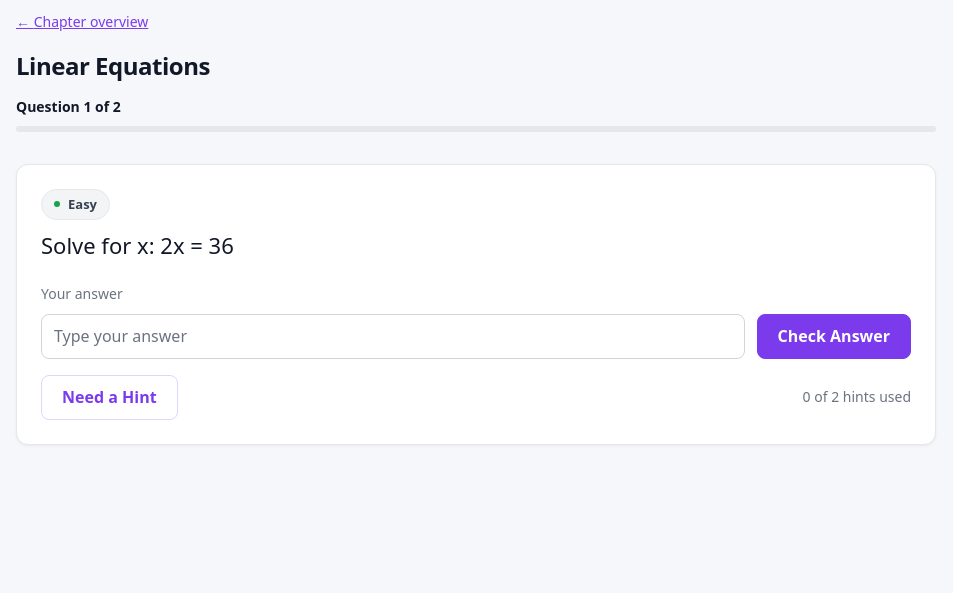
Scenario: QuestionPage - saving note for a newly created identity (S4a) › is cleared on Next Question and never re-armed
This screenshot has width=953, height=593.
expect the text "Solve for x: 2x = 36" is shown: met, box [41, 230, 234, 260]
Type "18" into the field with placeholder "Type your answer" at (393, 336), box [41, 314, 745, 359]
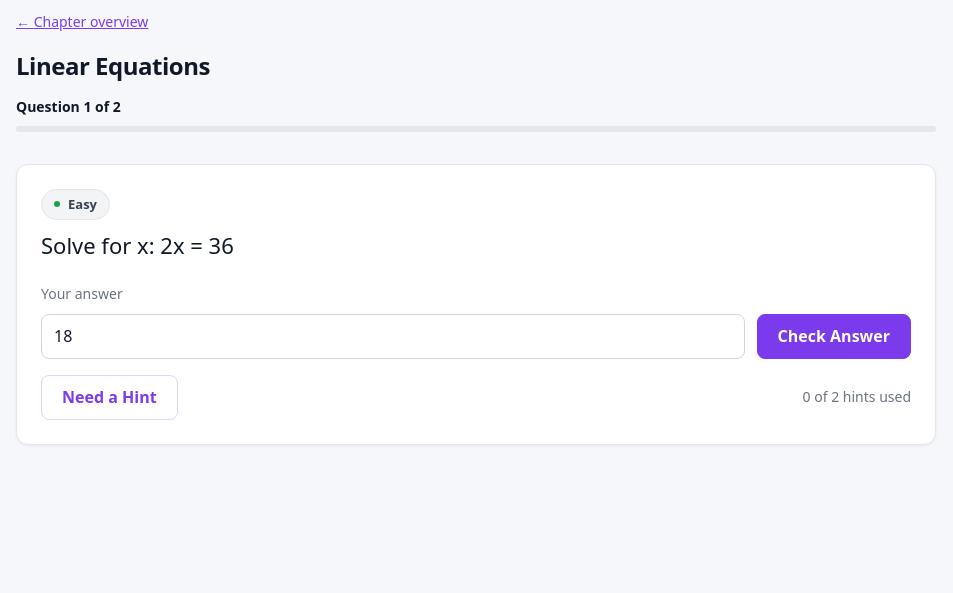
Click the button "Check Answer" at (834, 336), box [757, 314, 911, 359]
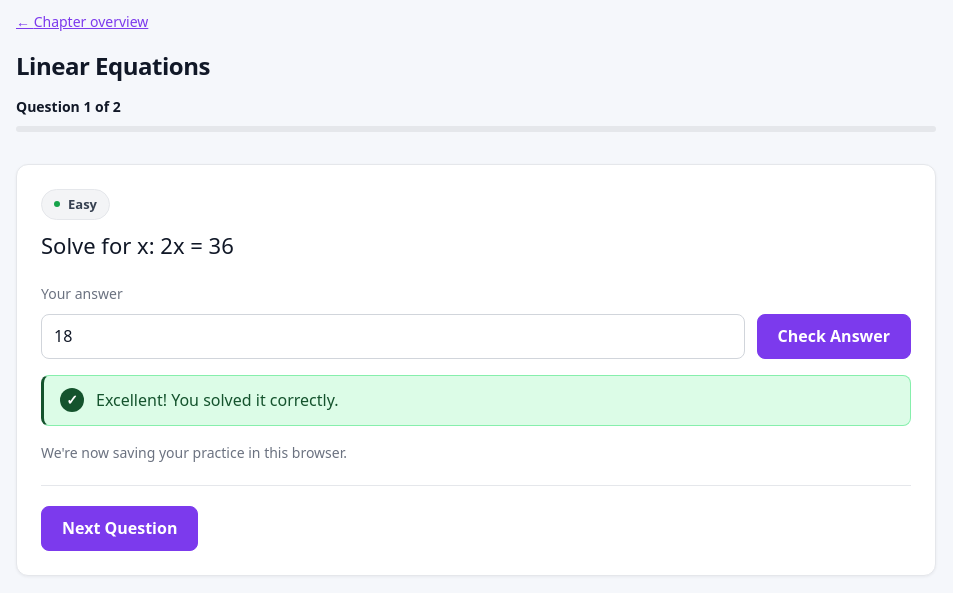
expect the text "We're now saving your practice in this browser." is shown: met, box [41, 444, 347, 462]
Click the button "Next Question" at (120, 528), box [41, 506, 198, 551]
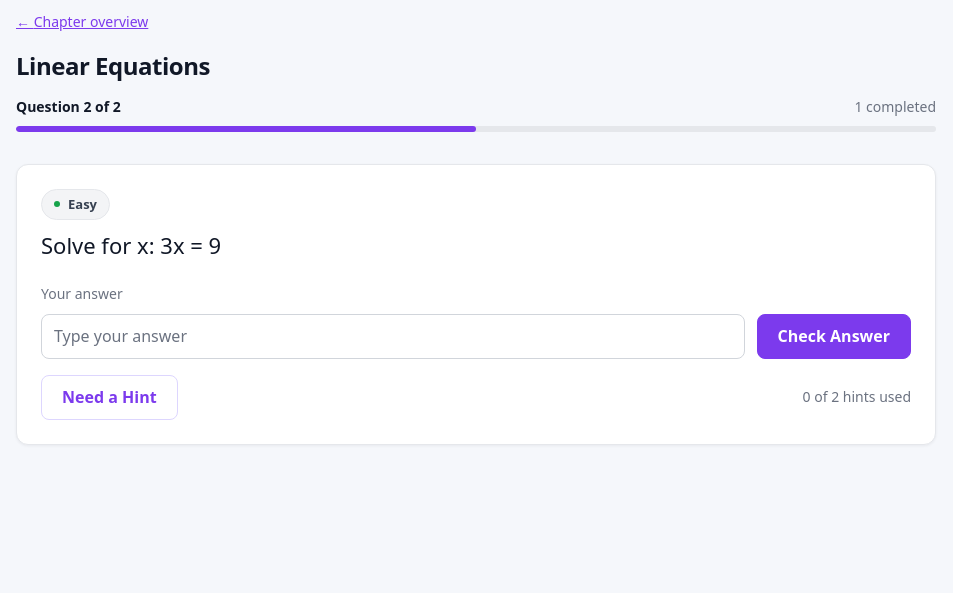
expect the text "Solve for x: 3x = 9" is shown: met, box [41, 230, 221, 260]
expect the text "We're now saving your practice in this browser." is gone: met
Type "18" into the field with placeholder "Type your answer" at (393, 336), box [41, 314, 745, 359]
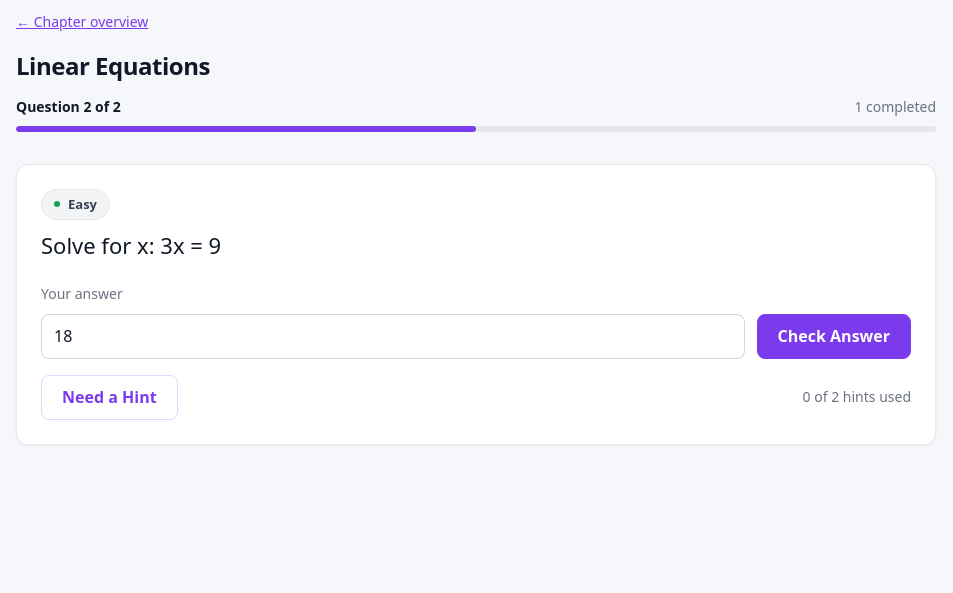
Click the button "Check Answer" at (834, 336), box [757, 314, 911, 359]
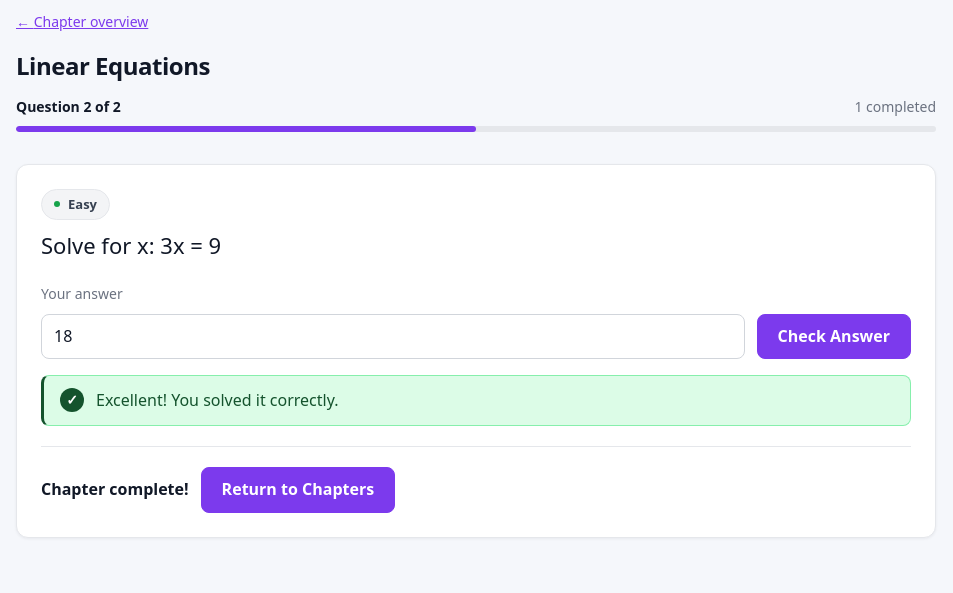
expect the text "We're now saving your practice in this browser." is not shown: met
expect the text "Excellent! You solved it correctly." is shown: met, box [96, 388, 338, 414]
